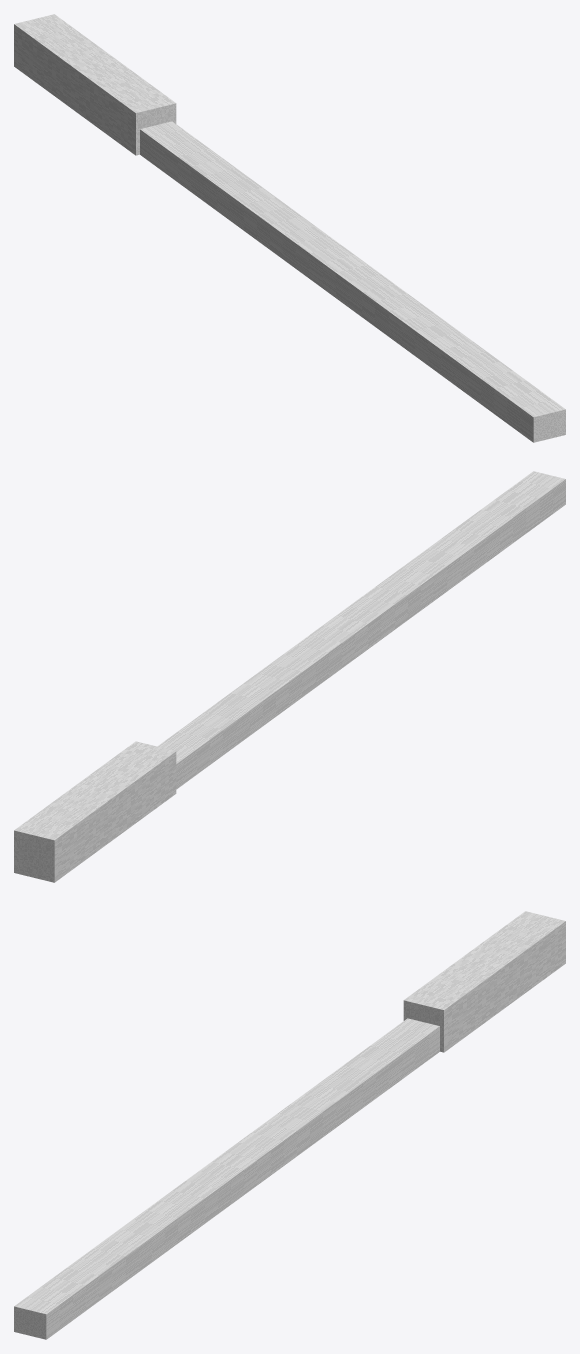
The model's file is katana.obj.
3 renders of one model, top to bottom at view 1: azimuth 30°, elevation 25°; view 2: azimuth 150°, elevation 25°; view 3: azimuth 330°, elevation 25°, orthographic.
Parts seen in each view (by area): view 1: part0, part1; view 2: part0, part1; view 3: part0, part1.
Boxes of the visible parts, x1,y1,x2,y2 form: part0: (140, 121, 565, 442); part1: (14, 14, 176, 155); part0: (157, 471, 565, 789); part1: (14, 741, 176, 882); part0: (14, 1018, 439, 1339); part1: (403, 911, 565, 1052).
Bounding box in the file's own units: 0.05 × 0.05 × 1.1.
Materials: 2 (2 with a texture image).
